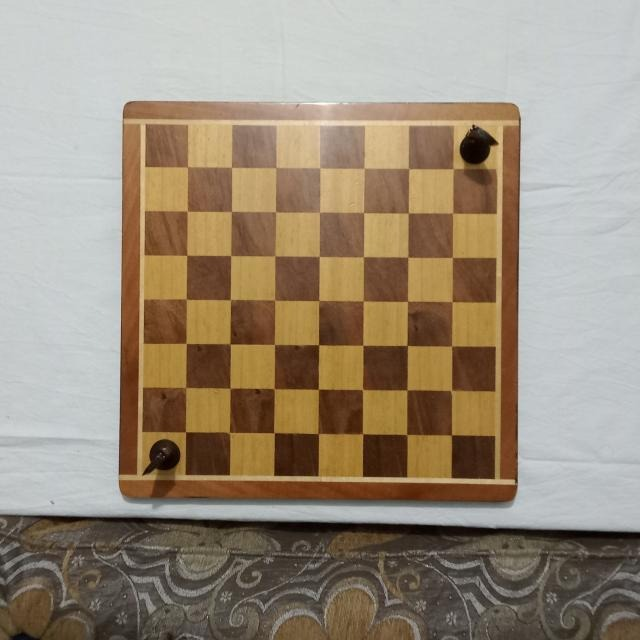black-knight: (140, 438, 181, 478), (460, 125, 498, 167)
